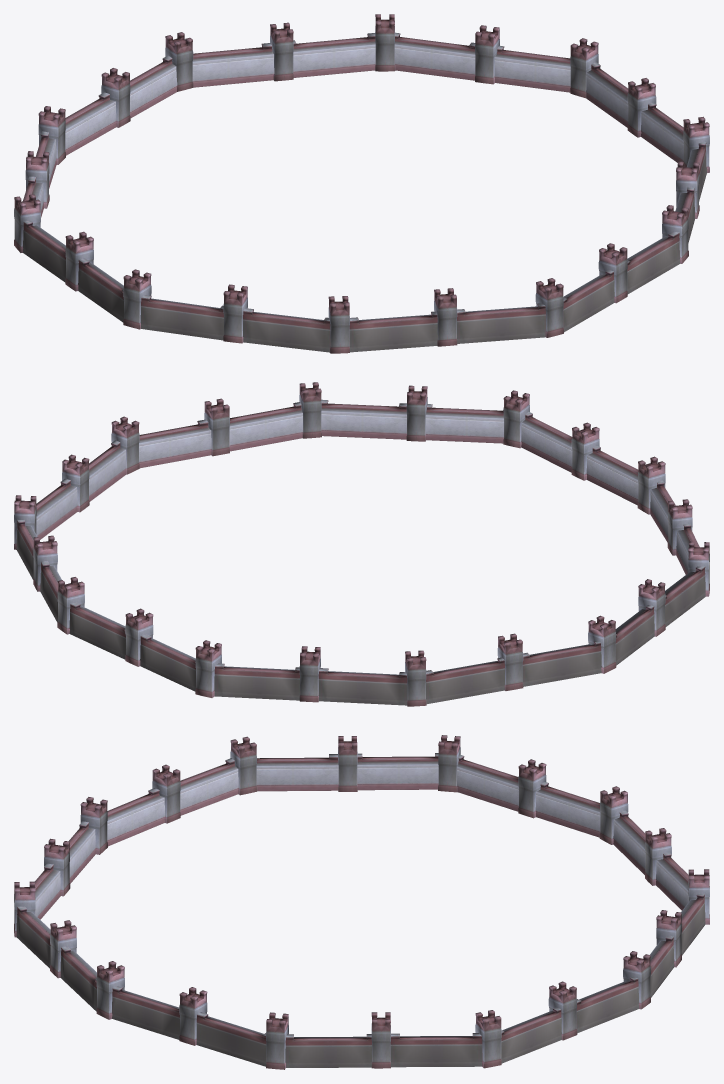
File: citywalls_roman.glb
3 renders of one model, top to bottom at view 1: azimuth 30°, elevation 25°; view 2: azimuth 150°, elevation 25°; view 3: azimuth 270°, elevation 25°, orthographic. The views are drawn at different scales.
Parts seen in each view (by area): view 1: Cube.010; view 2: Cube.010; view 3: Cube.010.
Boxes of the visible parts, bbox=[...] form: Cube.010: bbox=[14, 14, 709, 353]; Cube.010: bbox=[14, 382, 709, 706]; Cube.010: bbox=[14, 735, 709, 1069].
Bounding box in the file's own units: 33.69 × 2.58 × 34.44.
Materials: 1 (1 with a texture image).
